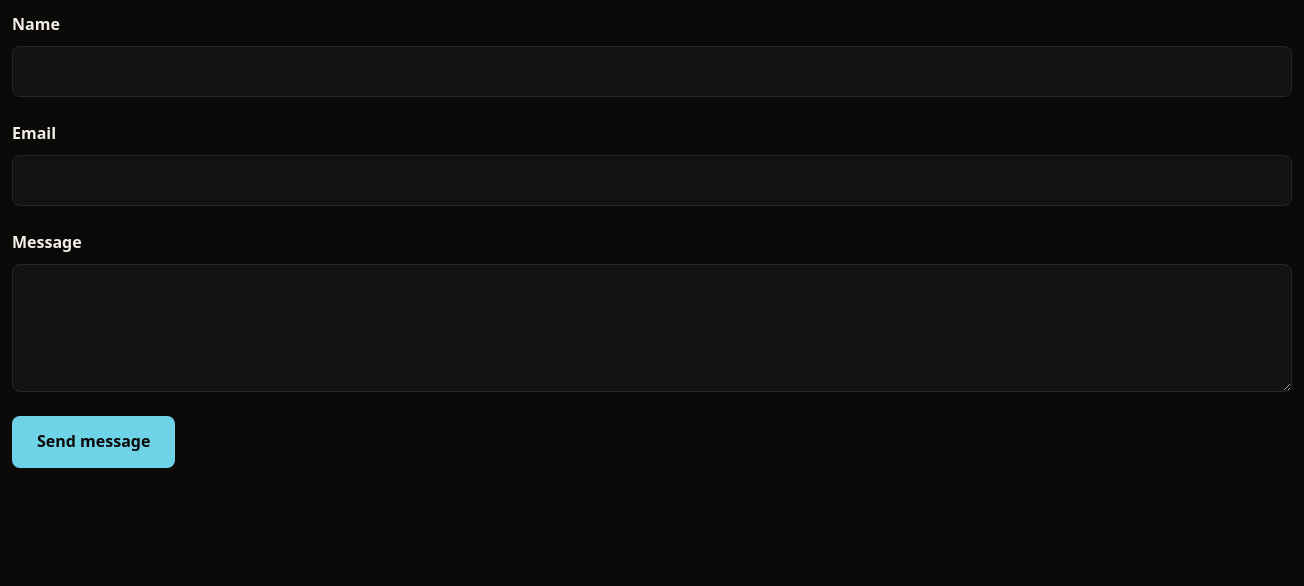
Test: ContactForm › shows the offline message when the request rejects
Type "Ada Lovelace" into the field labelled "Name".
click(652, 71); type("Ada Lovelace")  # box [12,46,1292,97]
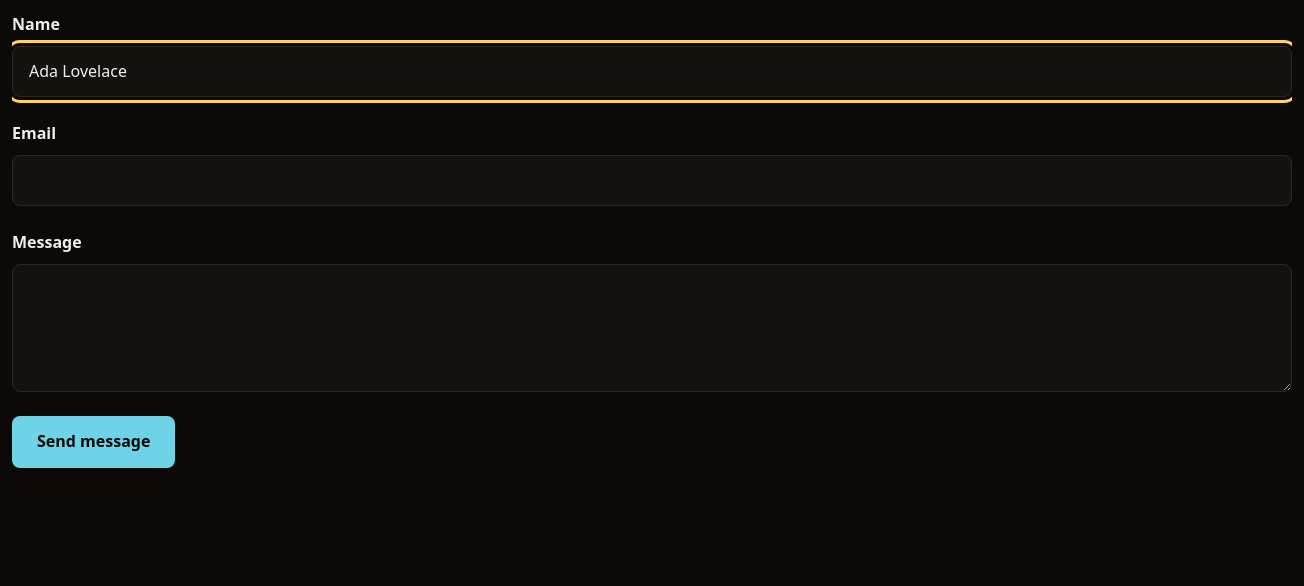
Type "ada@example.com" into the field labelled "Email".
click(652, 181); type("ada@example.com")  # box [12,155,1292,206]
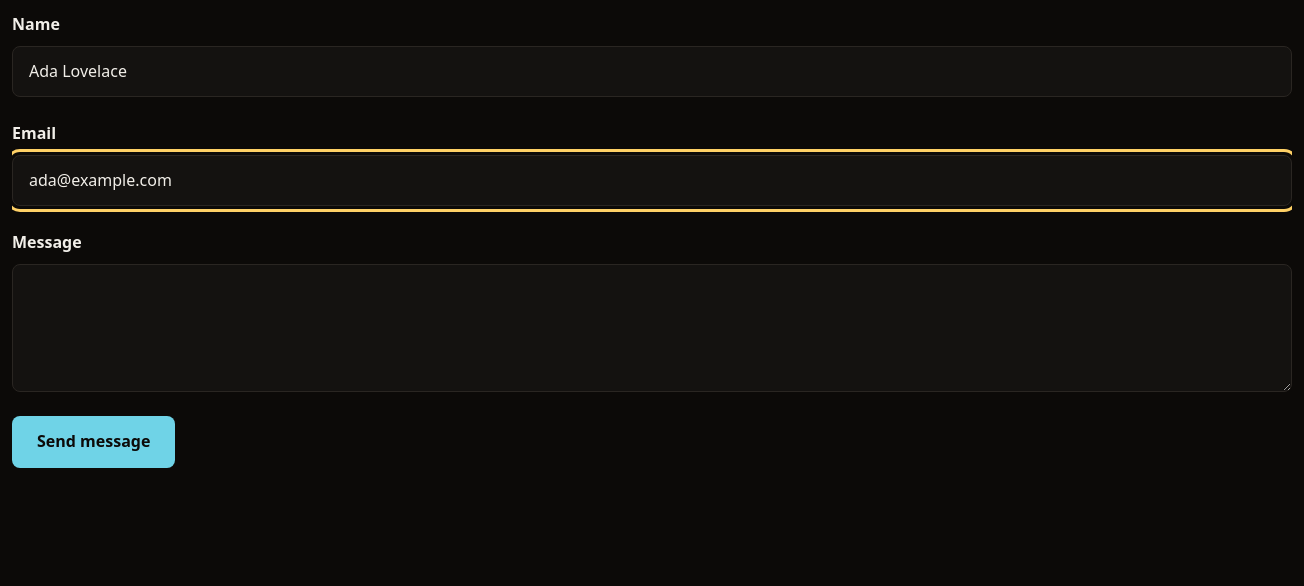
Type "Hello there" into the text box labelled "Message".
click(652, 328); type("Hello there")  # box [12,264,1292,392]
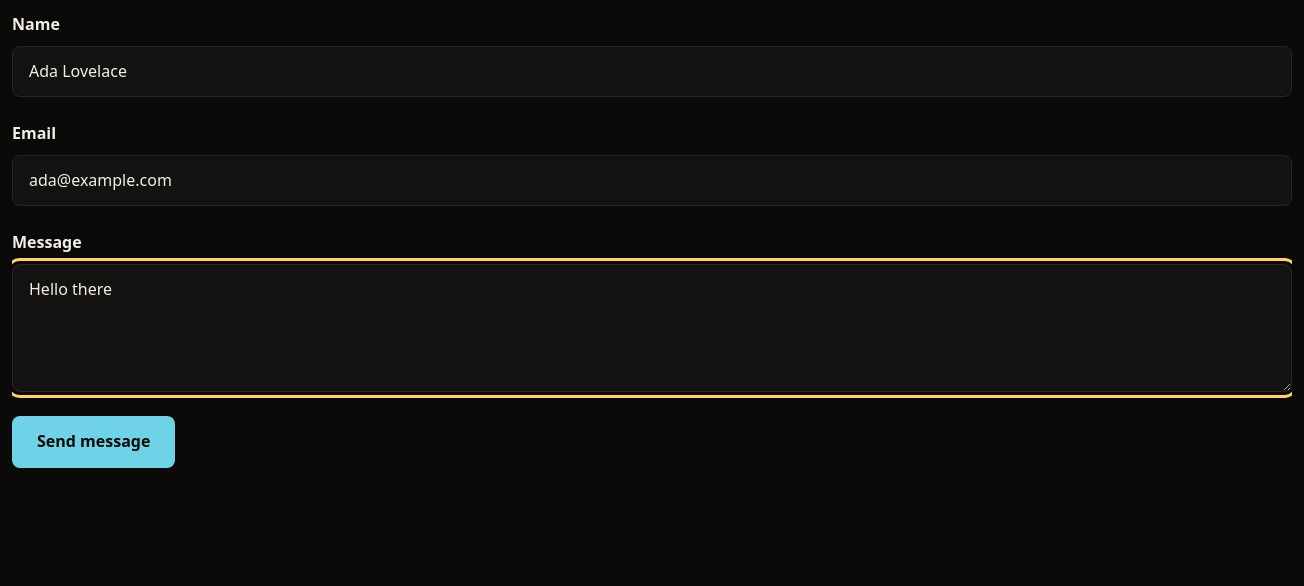
Click the button "Send message".
click(94, 442)  # box [12,416,175,468]
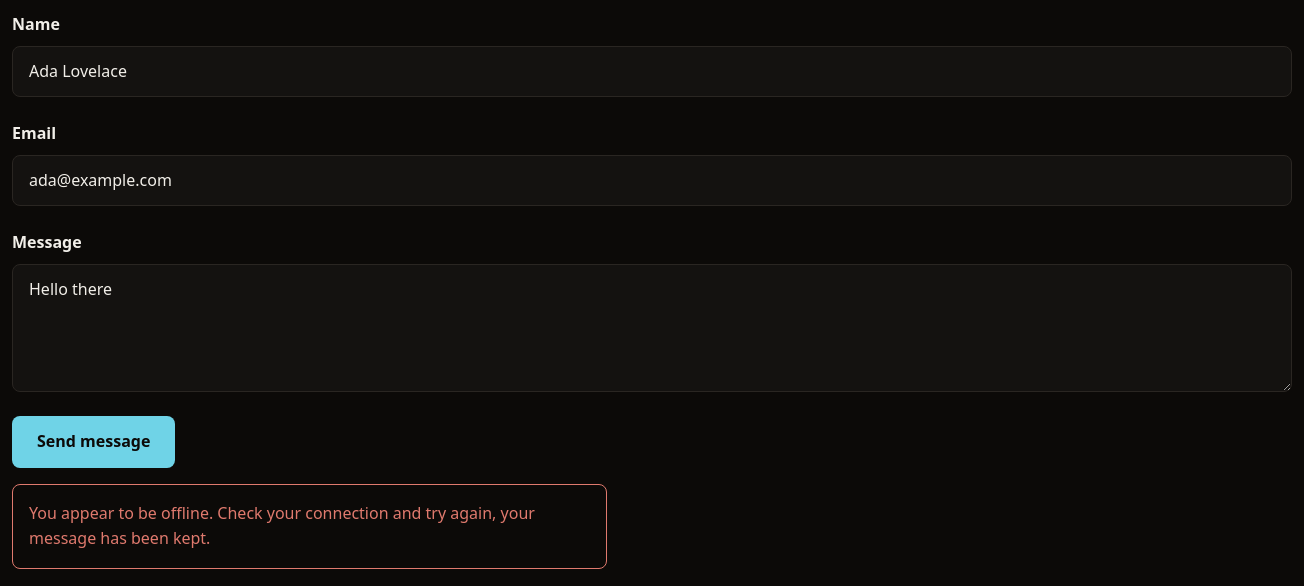
Expected: the text "appear to be offline" is shown, [29,502,535,549]
